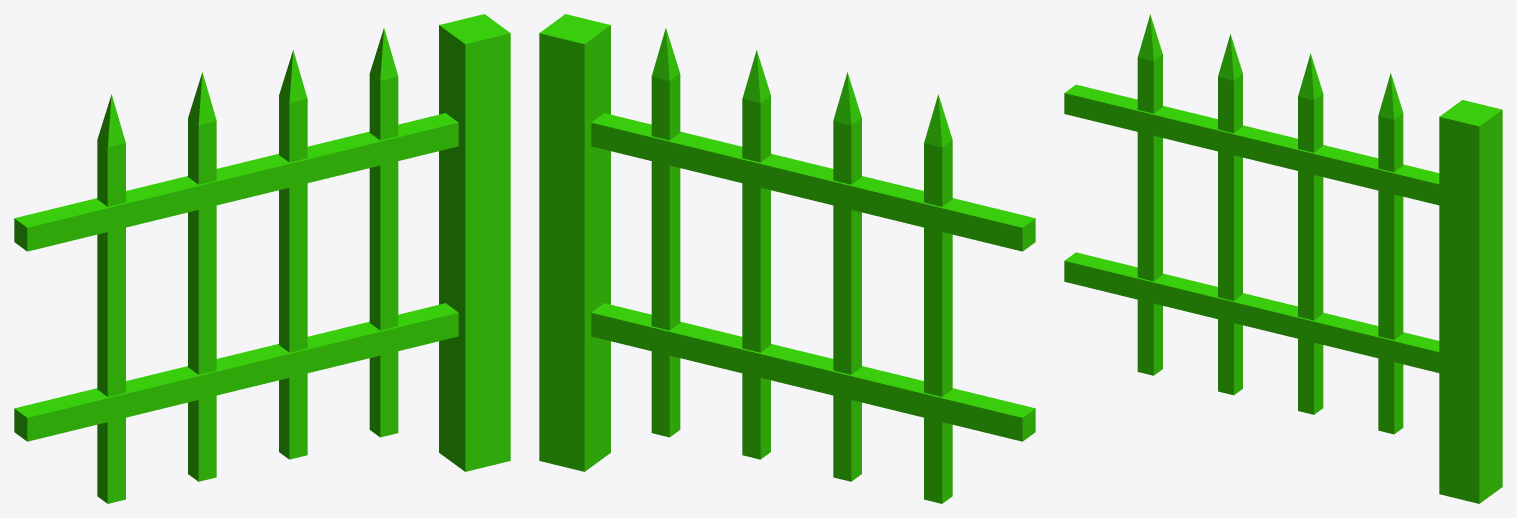
File: fence1_04.fbx
The picture shows the model from 3 angles, left to right: view 1: azimuth 30°, elevation 25°; view 2: azimuth 150°, elevation 25°; view 3: azimuth 330°, elevation 25°; orthographic projection. The views are drawn at different scales.
Parts seen in each view (by area): view 1: fence1_04; view 2: fence1_04; view 3: fence1_04.
Boxes of the visible parts, x1,y1,x2,y2 form: fence1_04: [14, 14, 510, 503]; fence1_04: [539, 14, 1035, 503]; fence1_04: [1064, 14, 1502, 503].
Size of the model in its own units: 105 by 95 by 10.
